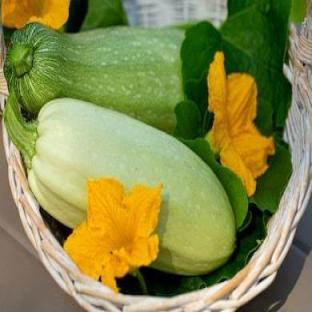Zucchini: (4, 95, 235, 274), (4, 24, 183, 131)
